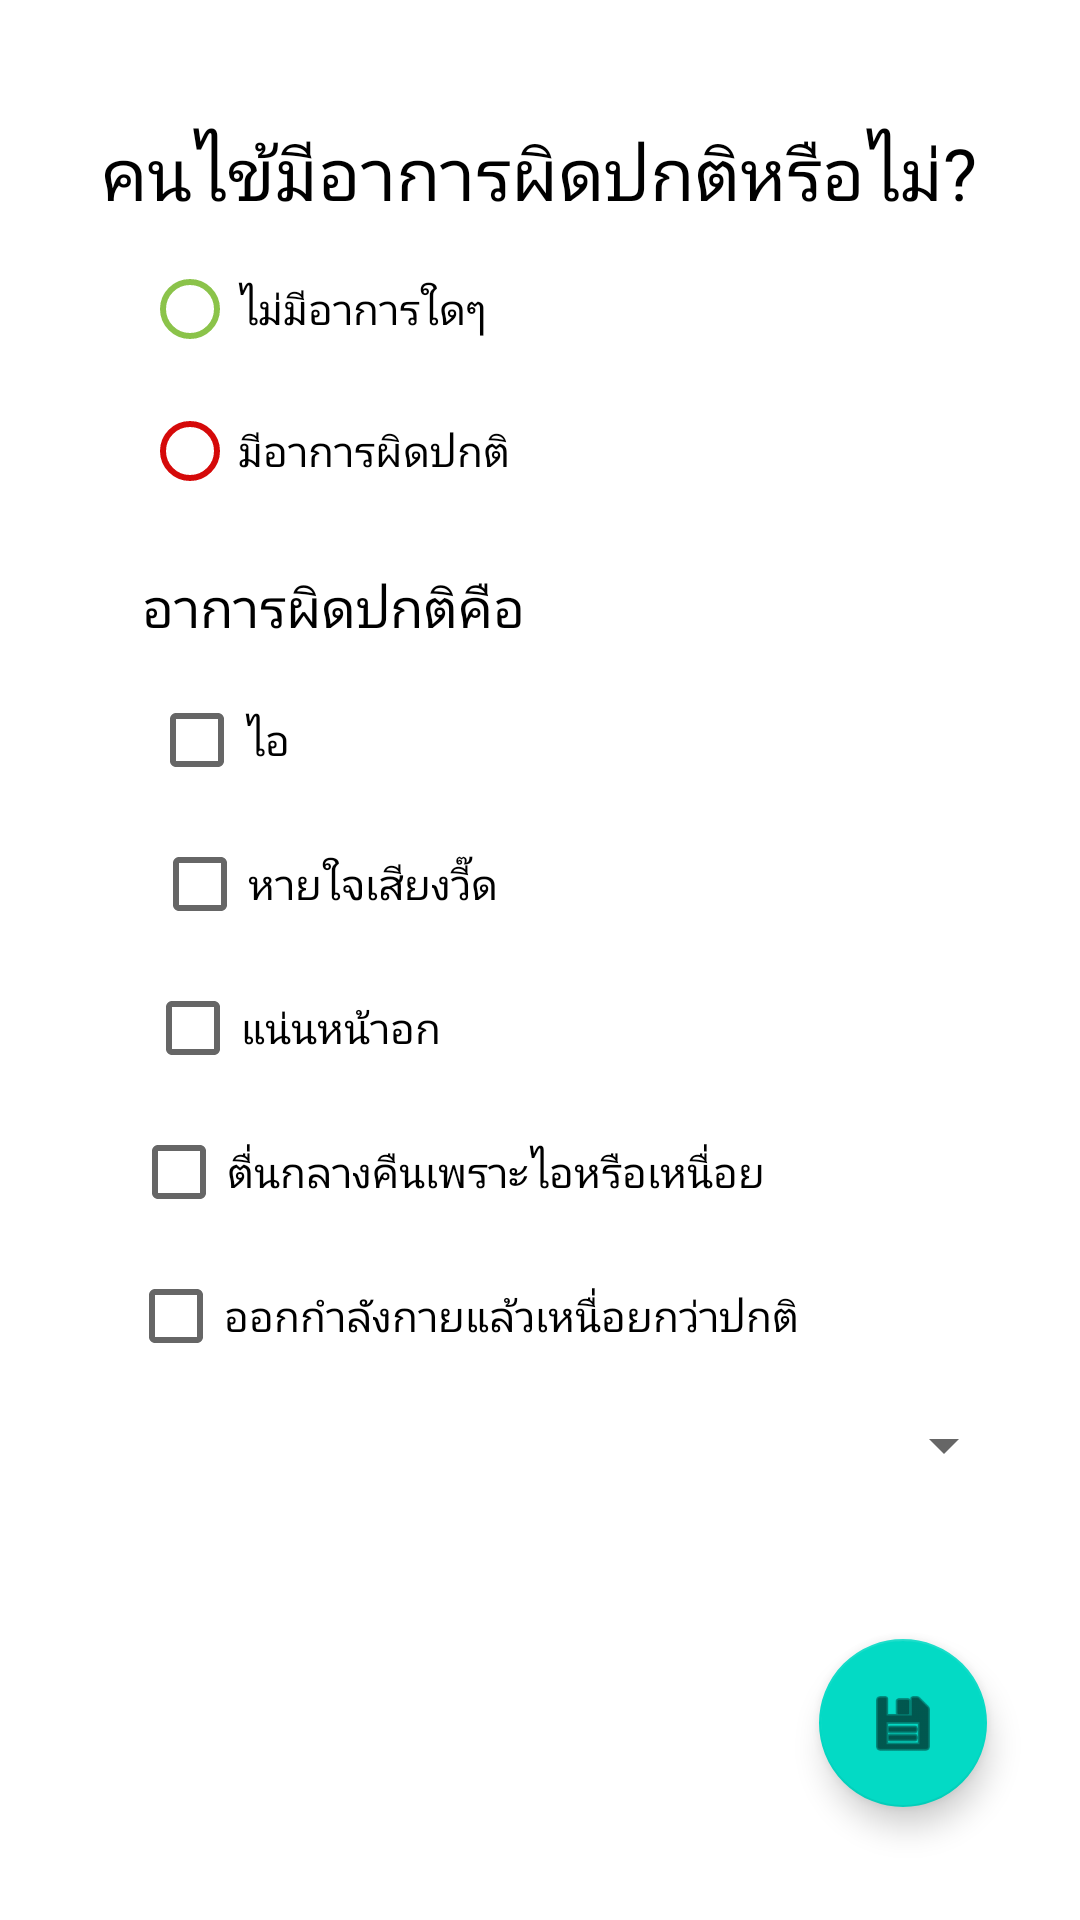

Point at icon controls on the screen. Image size 1080 × 1920, points as [x,y].
save: [903,1723]
